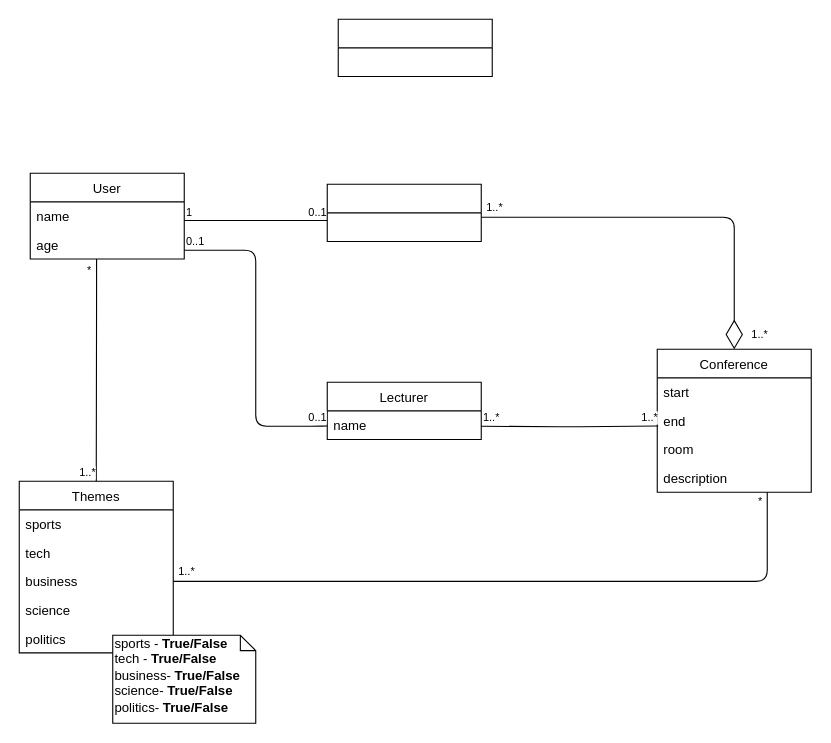
This 831x743 diagram has some shape labels left out. Each missing label, with the centre of its shape:
Attendee: point (403, 212)
Developer: point (414, 47)
